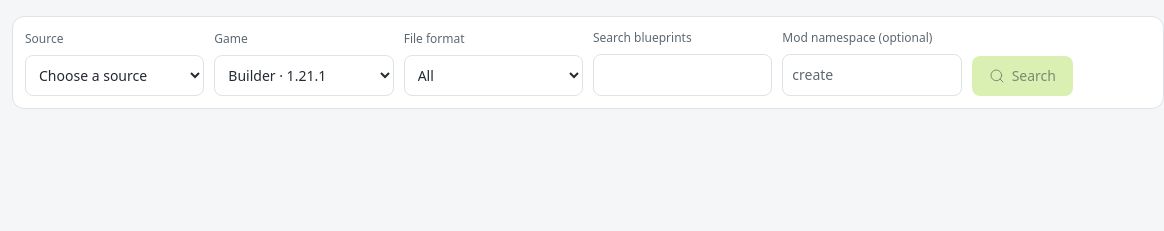
Test: requires a choice for multiple providers and keeps their requests and late results isolated
This screenshot has width=1164, height=231.
Expected: the submit button is disabled, top-left (972, 56), bottom-right (1073, 96)
Select "Community" in the dropdown labelled "Source" at (115, 75), box top-left (25, 55), bottom-right (204, 96)
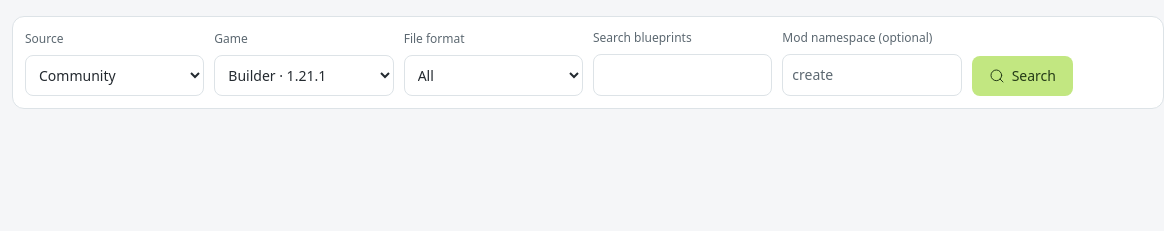
Submit the form, box top-left (12, 16), bottom-right (1163, 109)
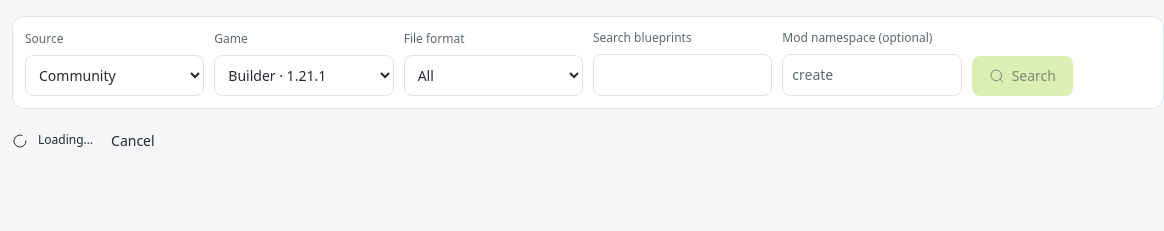
Select "MCS" in the dropdown labelled "Source" at (115, 75), box top-left (25, 55), bottom-right (204, 96)
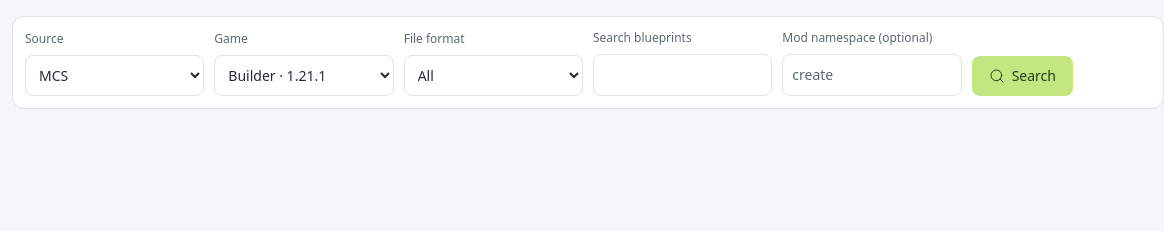
Submit the form, box top-left (12, 16), bottom-right (1163, 109)
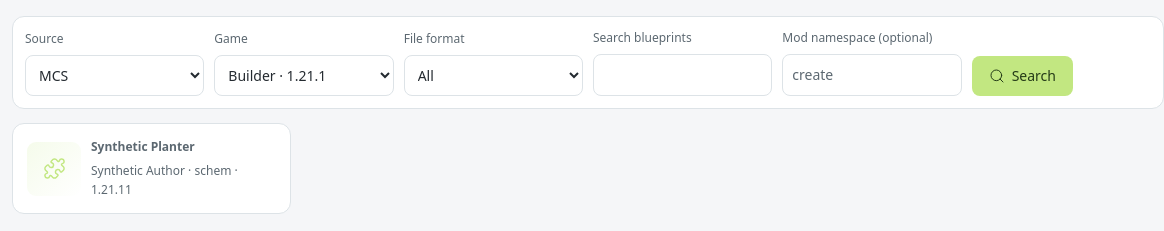
Result: the text "Synthetic Planter" is shown at top-left (91, 138), bottom-right (195, 155)
